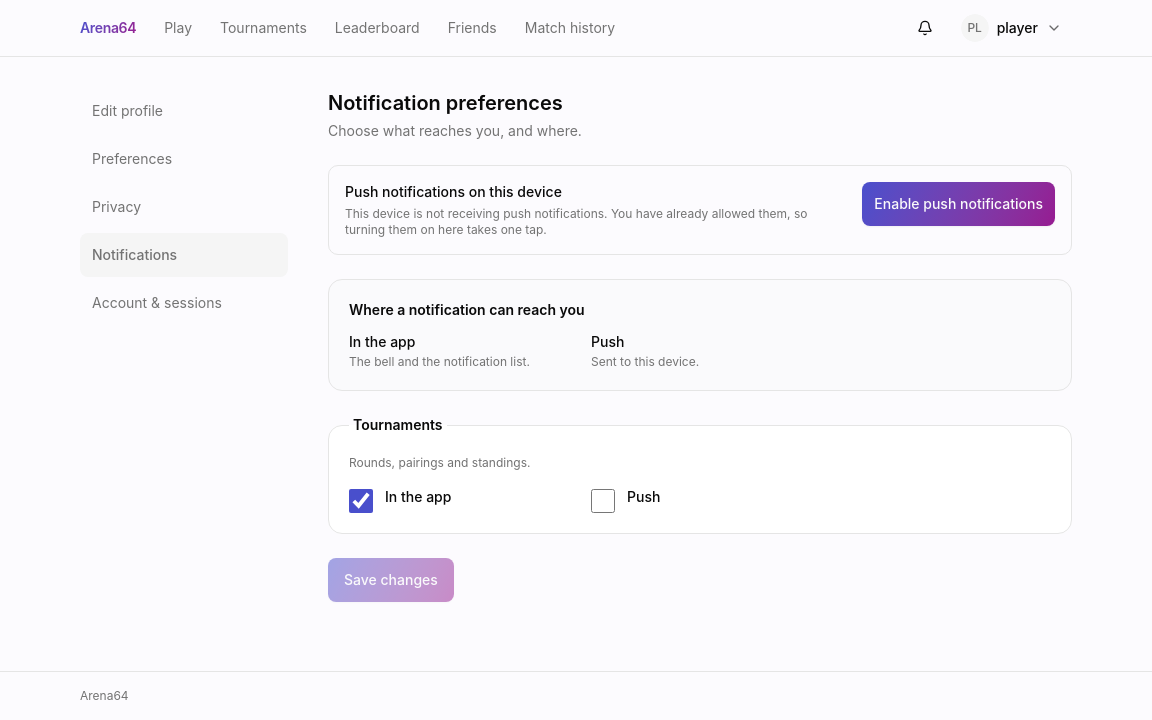
Test: signing out › completes on a browser with no service worker registration
The image size is (1152, 720).
Click the button "PL player": click(1011, 28) [951,6,1072,50]
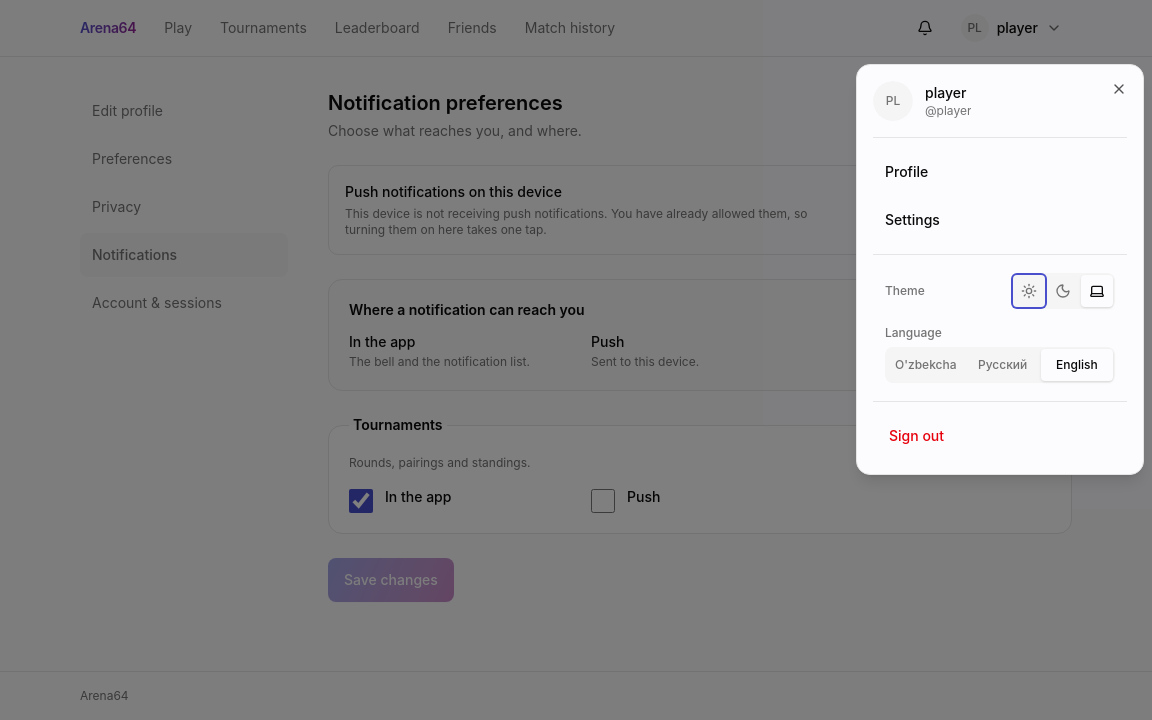
Click the button "Sign out": click(1000, 436) [873,414,1127,458]
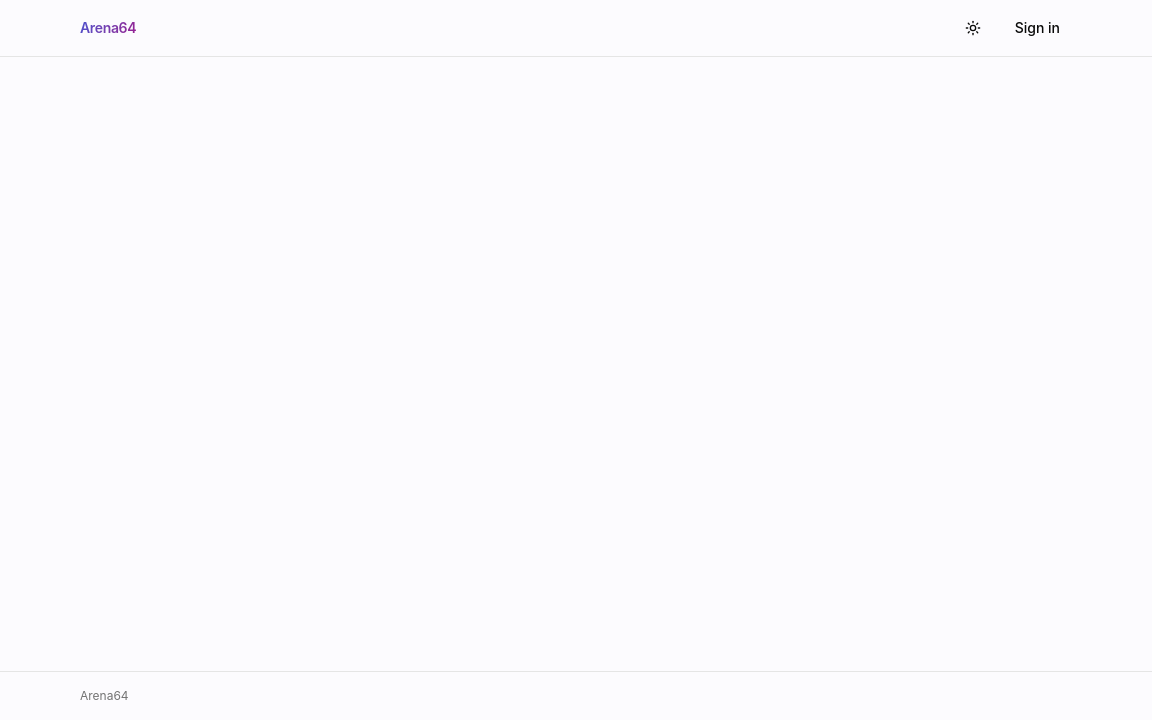
Check: the link "Sign in" is shown, box [1015,19,1060,36]
